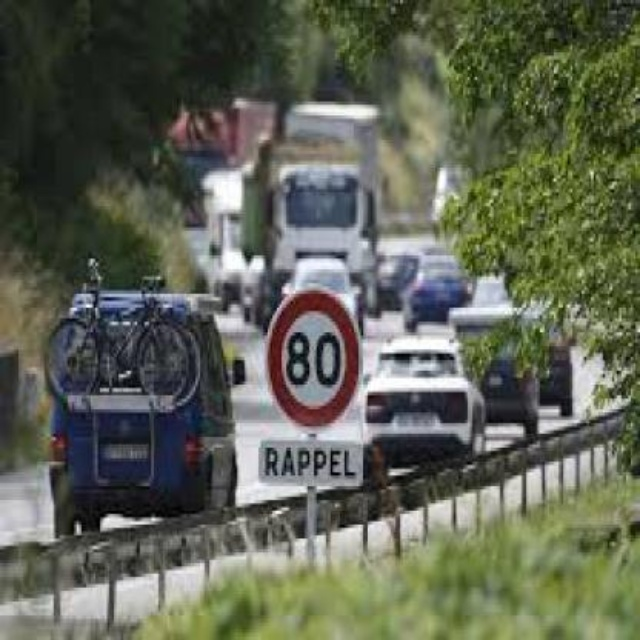Tốc độ tối đa cho phép 80km/h: (267, 293, 362, 425)
